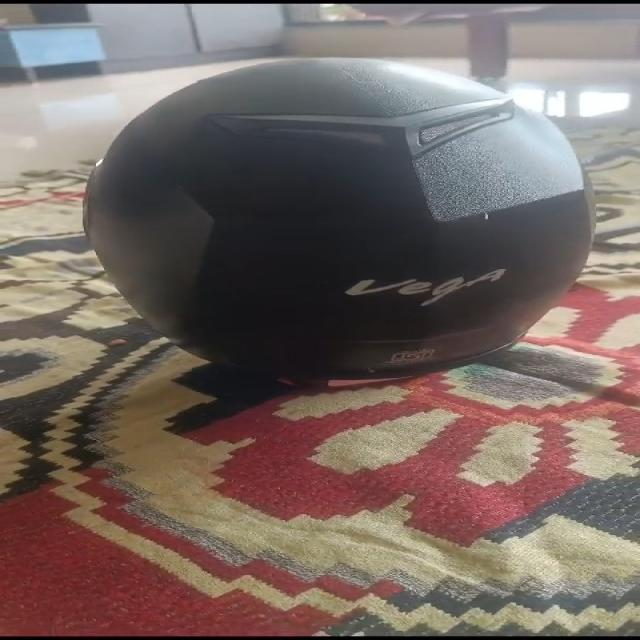Helmet: (84, 58, 595, 385)
